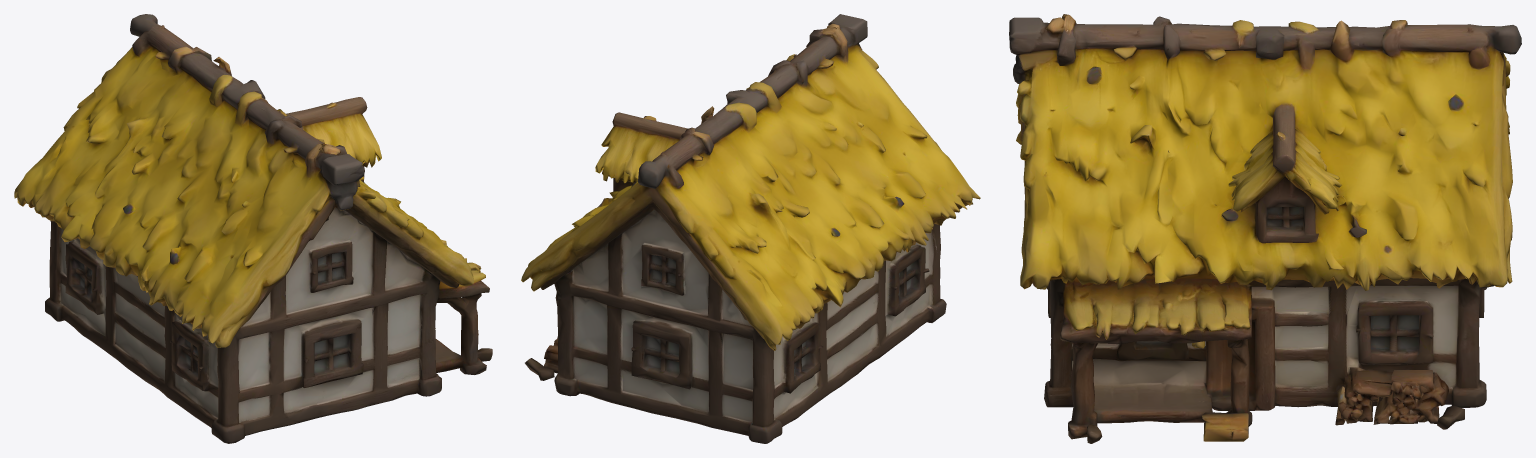
File: townFarmhouse.glb
3 views of the same model, side by side, from view 1: azimuth 30°, elevation 25°; view 2: azimuth 150°, elevation 25°; view 3: azimuth 270°, elevation 25° (orthographic). The views are drawn at different scales.
Visible parts, largest first — view 1: pb_node; view 2: pb_node; view 3: pb_node.
Part boxes in pixels (x1,y1,x2,y2): pb_node: (14, 14, 492, 443); pb_node: (521, 14, 980, 443); pb_node: (1009, 14, 1521, 443).
Size of the model in its own units: 0.8625 by 0.7074 by 1.
Materials: 1 (1 with a texture image).
